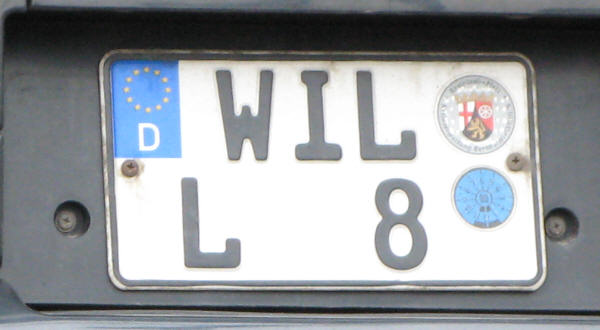license_plate: (97, 49, 547, 291)
